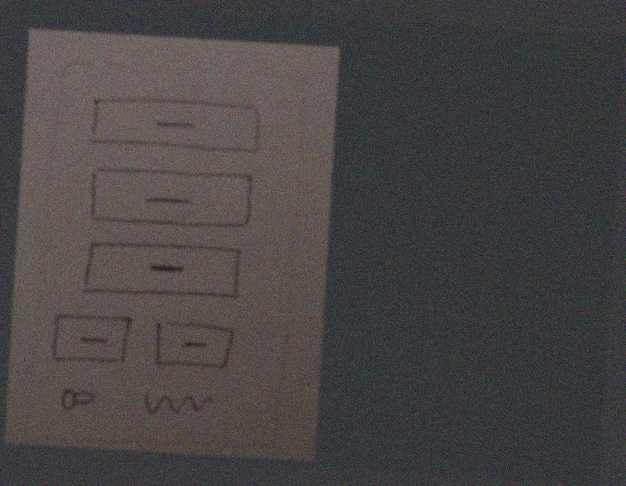button: (83, 85, 267, 159), (76, 234, 250, 307), (81, 164, 262, 234), (146, 315, 240, 379), (47, 309, 138, 371)
switch: (49, 382, 103, 415)
text: (135, 386, 218, 425)
